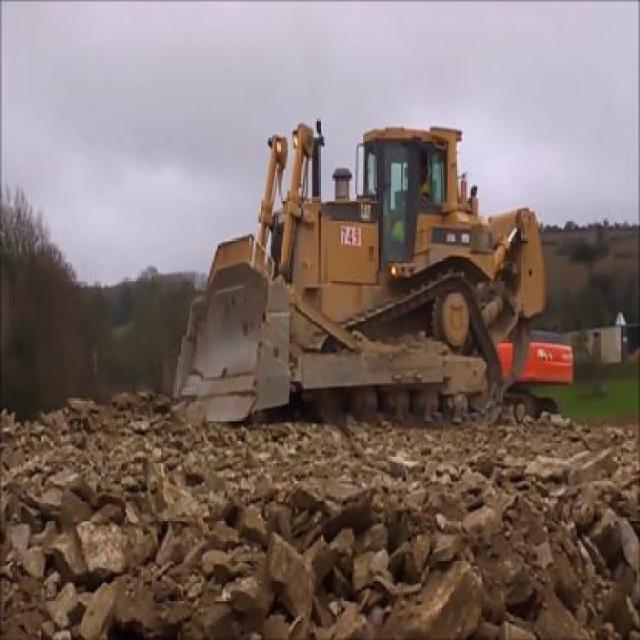Bulldozer: (166, 118, 543, 425)
Excavator: (500, 317, 569, 425)
